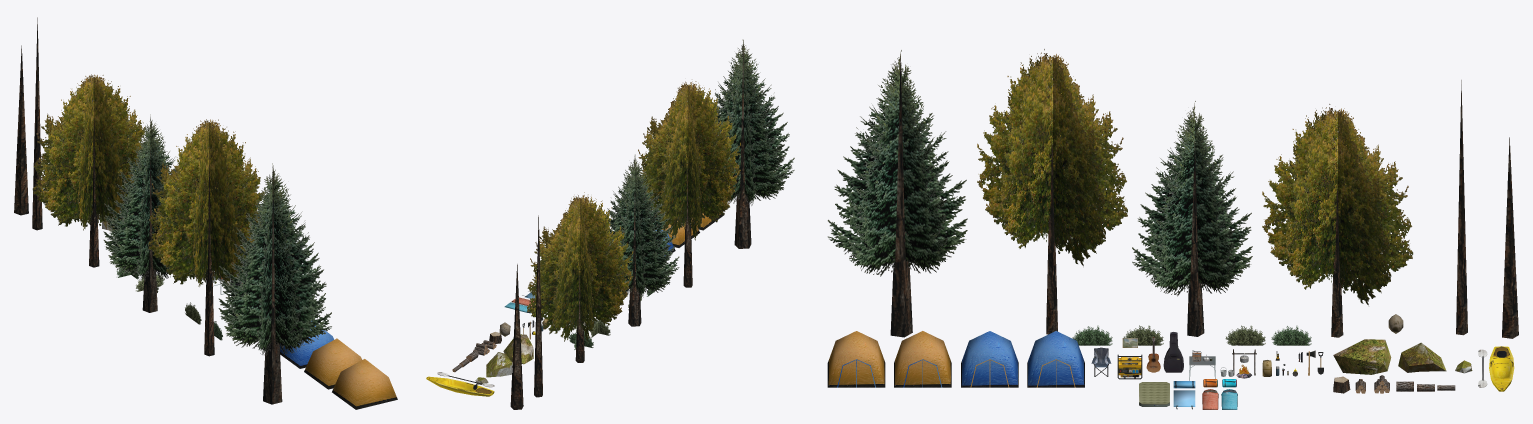
File: New_PSX Forest Props.fbx
The picture shows the model from 3 angles, left to right: view 1: azimuth 30°, elevation 25°; view 2: azimuth 150°, elevation 25°; view 3: azimuth 270°, elevation 25°; orthographic projection. The views are drawn at different scales.
Parts seen in each view (by area): view 1: Tree_3, Tree_1, Tree_4, Tree_2, Large Tent 2, Simple Large Tent 2, Tree_6, Tree_5, Large Tent 1; view 2: Tree_3, Tree_4, Tree_1, Tree_2, Tree_6, Tree_5, Kayak, Rock 1, Rock 2; view 3: Tree_3, Tree_4, Tree_1, Tree_2, Simple Large Tent 1, Simple Large Tent 2, Large Tent 2, Large Tent 1, Tree_6, Tree_5, Rock 2, Rock 1 (+7 smaller).
Part boxes in pixels (bbox=[...]): Tree_3: bbox=[148, 119, 264, 356]; Tree_1: bbox=[218, 163, 331, 404]; Tree_4: bbox=[32, 74, 144, 267]; Tree_2: bbox=[103, 114, 176, 312]; Large Tent 2: bbox=[332, 359, 397, 409]; Simple Large Tent 2: bbox=[304, 338, 361, 389]; Tree_6: bbox=[14, 45, 28, 215]; Tree_5: bbox=[32, 17, 42, 230]; Large Tent 1: bbox=[279, 321, 333, 368]; Tree_3: bbox=[638, 79, 740, 287]; Tree_4: bbox=[527, 192, 633, 362]; Tree_1: bbox=[712, 39, 794, 248]; Tree_2: bbox=[607, 154, 679, 326]; Tree_6: bbox=[510, 264, 523, 409]; Tree_5: bbox=[534, 215, 542, 397]; Kayak: bbox=[426, 376, 494, 396]; Rock 1: bbox=[486, 352, 512, 377]; Rock 2: bbox=[503, 334, 533, 364]; Tree_3: bbox=[977, 49, 1127, 334]; Tree_4: bbox=[1262, 104, 1413, 337]; Tree_1: bbox=[827, 50, 967, 337]; Tree_2: bbox=[1132, 101, 1252, 336]; Simple Large Tent 1: bbox=[1027, 331, 1084, 387]; Simple Large Tent 2: bbox=[894, 331, 951, 387]; Large Tent 2: bbox=[827, 331, 885, 387]; Large Tent 1: bbox=[961, 331, 1018, 387]; Tree_6: bbox=[1502, 137, 1518, 338]; Tree_5: bbox=[1456, 80, 1467, 335]; Rock 2: bbox=[1333, 339, 1391, 374]; Rock 1: bbox=[1398, 342, 1446, 372].
Size of the model in its own units: 2211 by 2705 by 5910.
